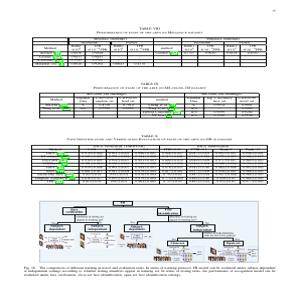diagram: (40, 200, 258, 265)
table: (30, 143, 268, 186), (31, 34, 267, 67), (36, 90, 261, 120)
